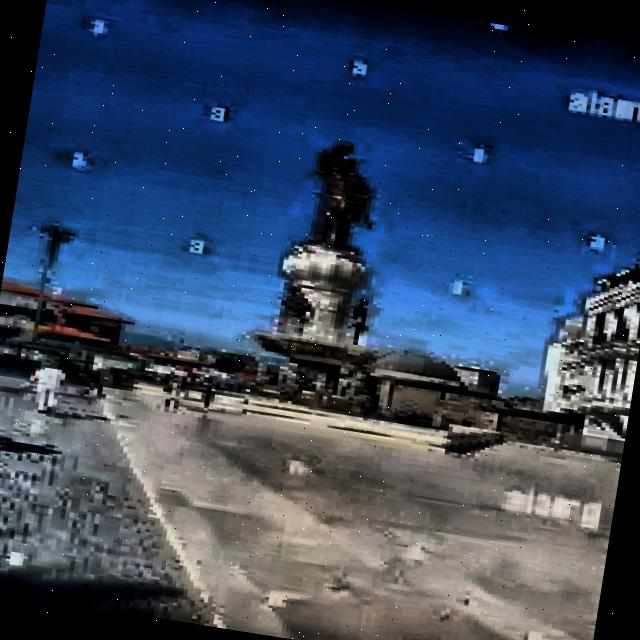Philip II of Macedonia: (246, 132, 434, 418)
